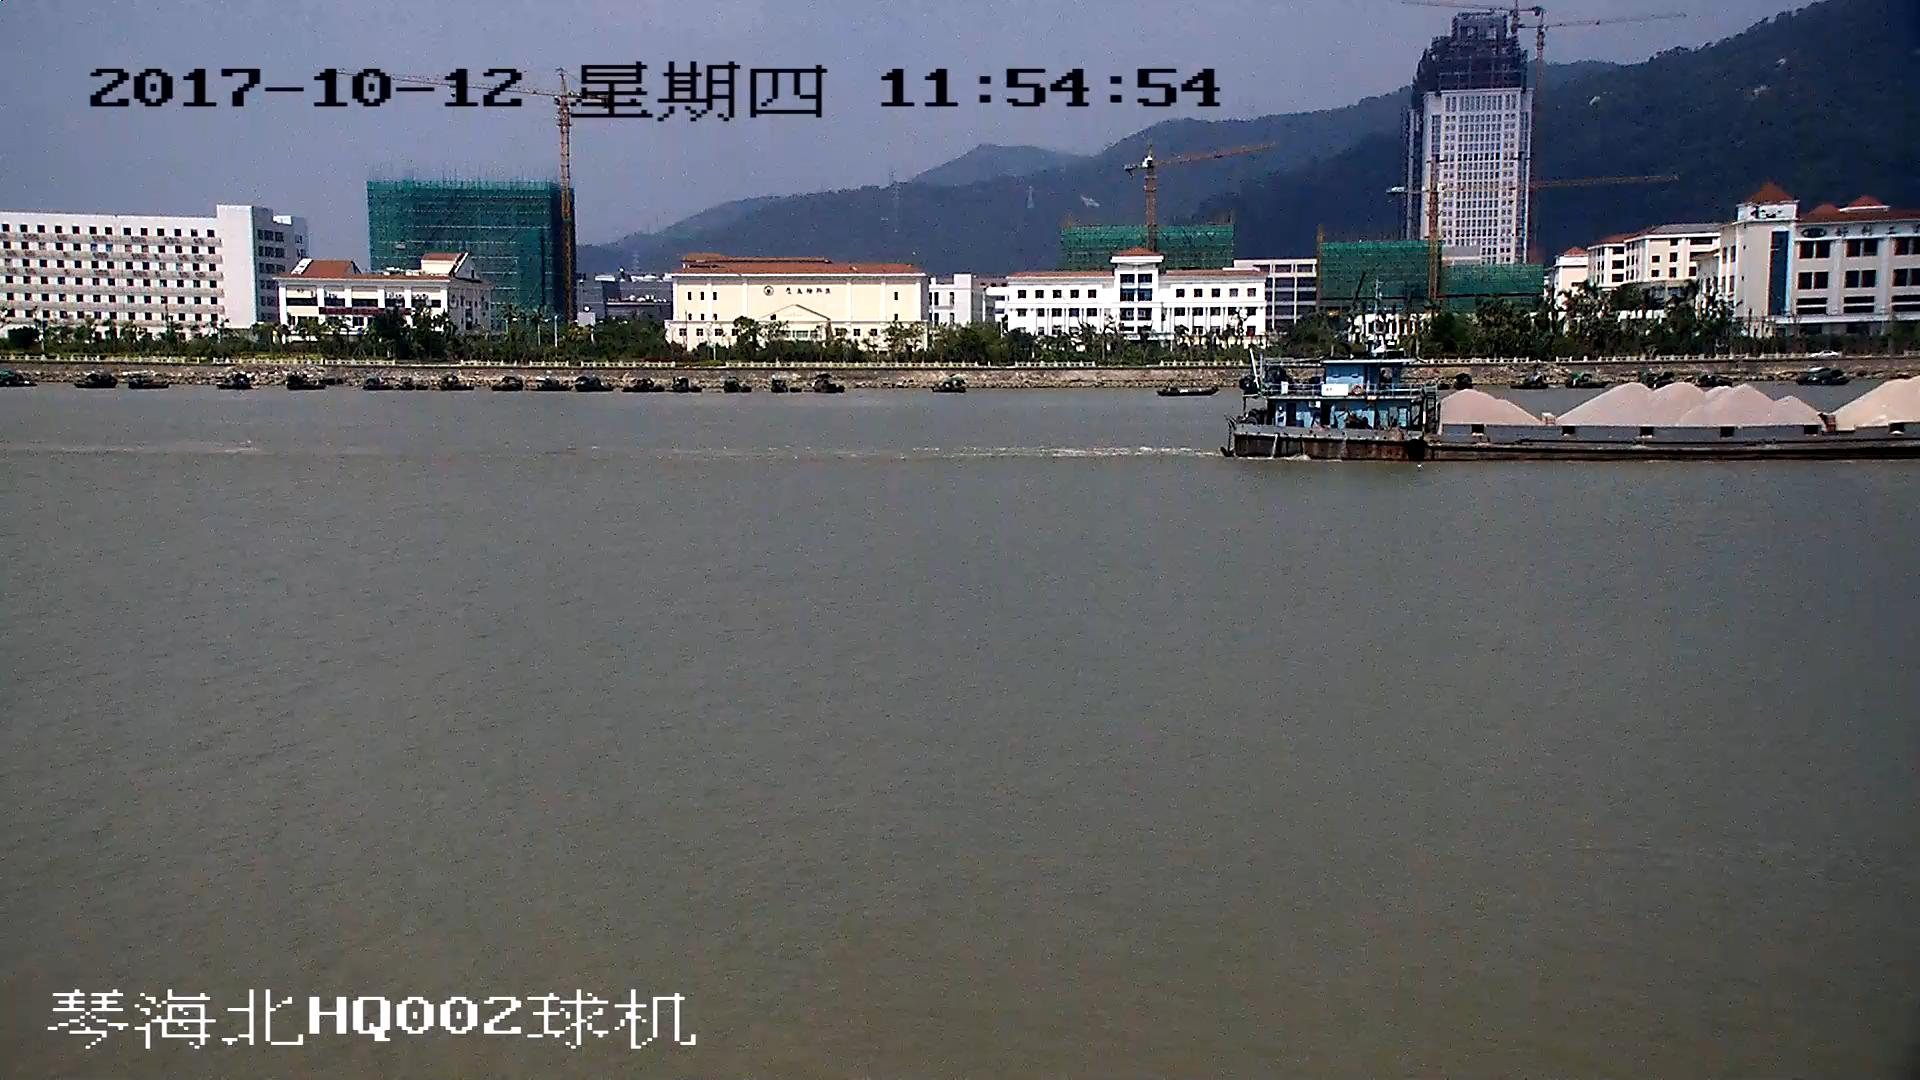ore carrier: (1234, 357, 1920, 462)
